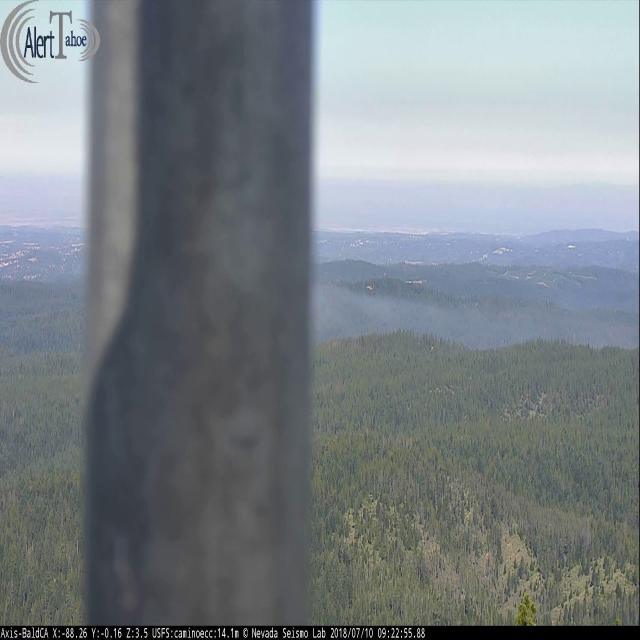smoke: (311, 284, 640, 350)
